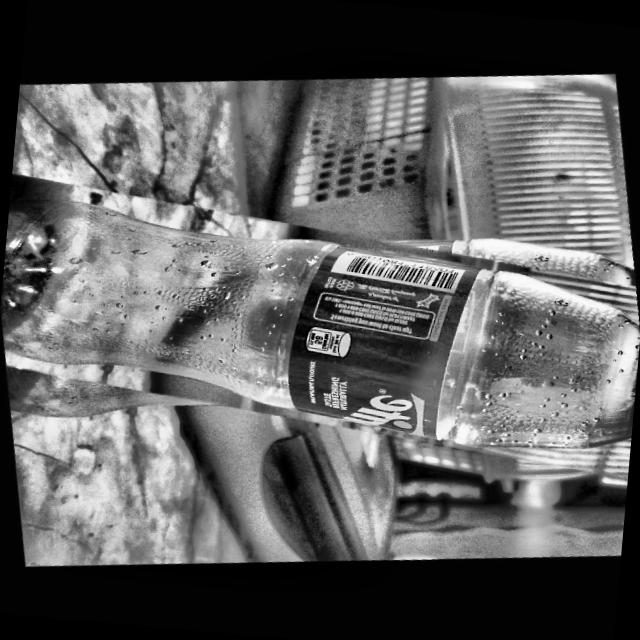Plastic-Bottle: (0, 135, 640, 522)
